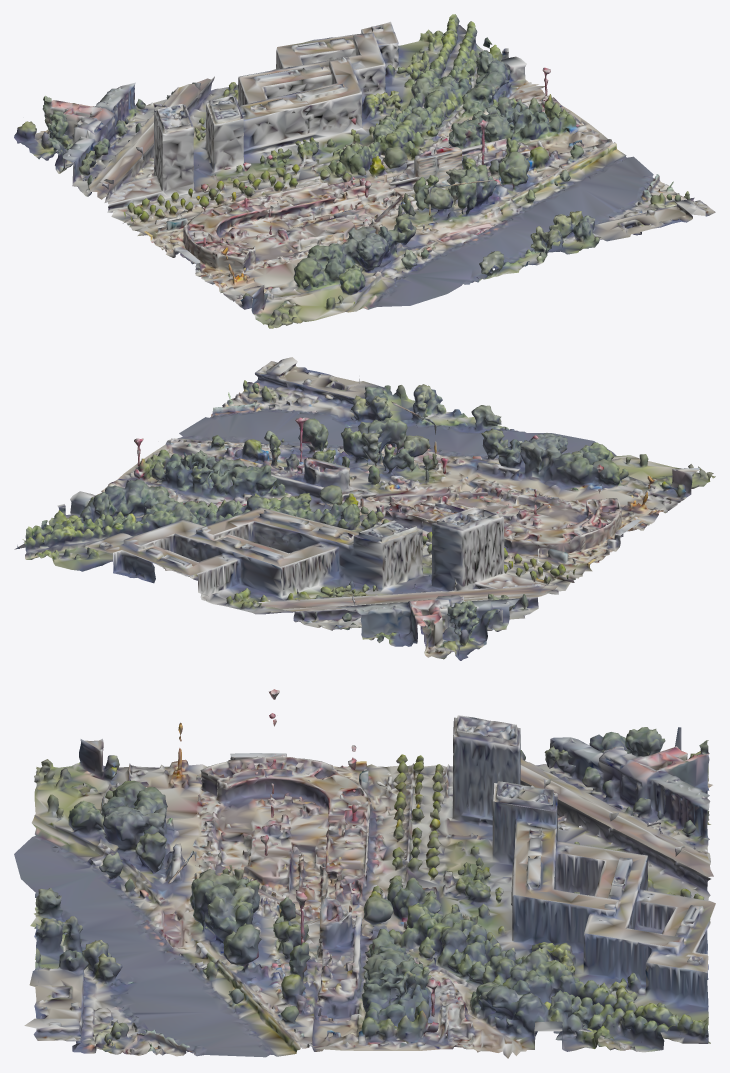
Rendered from tile-3887_58200.glb.
The picture shows the model from 3 angles, top to bottom: view 1: azimuth 30°, elevation 25°; view 2: azimuth 150°, elevation 25°; view 3: azimuth 270°, elevation 25°; orthographic projection. The views are drawn at different scales.
Visible parts, largest first — view 1: world; view 2: world; view 3: world.
Part boxes in pixels (x1,y1,x2,y2): world: (14,14,715,328); world: (14,357,715,660); world: (14,689,715,1058).
Size of the model in its own units: 374 by 73.69 by 377.
